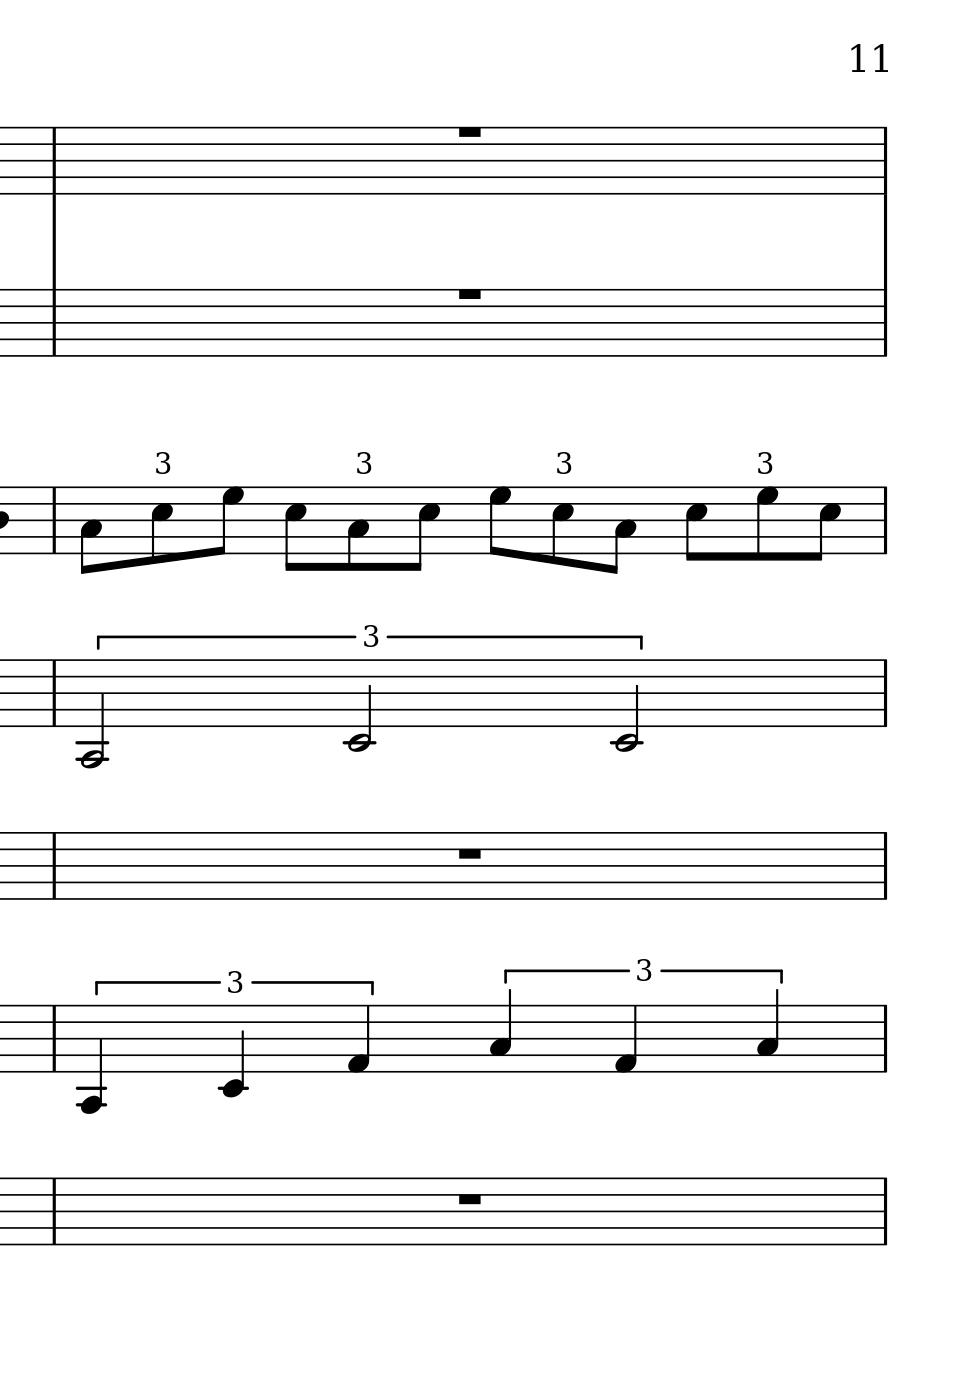1: (847, 41, 867, 76), (871, 41, 889, 75)
2_-2: (612, 657, 643, 755), (345, 656, 374, 755)
2_-4: (76, 657, 107, 770)
3: (633, 957, 657, 986), (226, 967, 245, 999), (361, 622, 380, 650), (354, 450, 372, 477), (554, 450, 572, 477), (153, 450, 171, 476), (756, 450, 773, 476)
4_-2: (218, 1003, 247, 1098)
4_-4: (76, 1002, 107, 1115)
4_1: (344, 1004, 372, 1075), (612, 1003, 638, 1075)
4_3: (487, 988, 513, 1074), (754, 988, 781, 1074)
8_3: (603, 485, 637, 575), (344, 485, 371, 572), (77, 485, 103, 577)
8_5: (408, 485, 441, 573), (809, 484, 842, 564), (282, 485, 307, 573), (549, 485, 575, 568), (148, 484, 174, 566), (683, 485, 708, 564)
8_7: (211, 485, 244, 558), (753, 485, 781, 563), (487, 485, 512, 558)
Rests1: (453, 284, 485, 305), (453, 844, 485, 863), (454, 122, 485, 141), (454, 1190, 485, 1208)
Single_barline: (43, 487, 64, 554), (875, 486, 894, 555), (876, 659, 894, 727), (875, 290, 893, 356), (45, 290, 62, 356), (876, 832, 893, 899), (876, 1005, 893, 1072), (876, 128, 893, 194), (876, 1178, 893, 1244), (45, 128, 62, 193), (46, 660, 62, 727), (46, 1006, 62, 1072), (46, 1178, 62, 1244), (46, 834, 62, 898)
